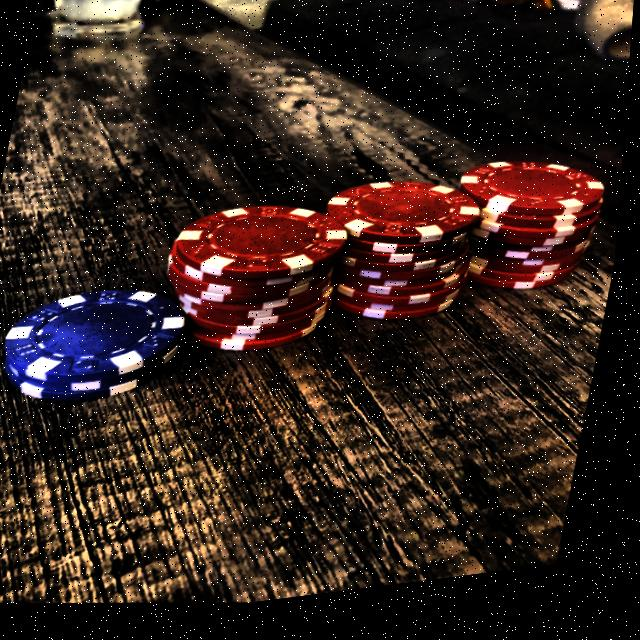Chip: (150, 188, 365, 379), (305, 169, 497, 347), (0, 268, 206, 426), (440, 154, 619, 323)
